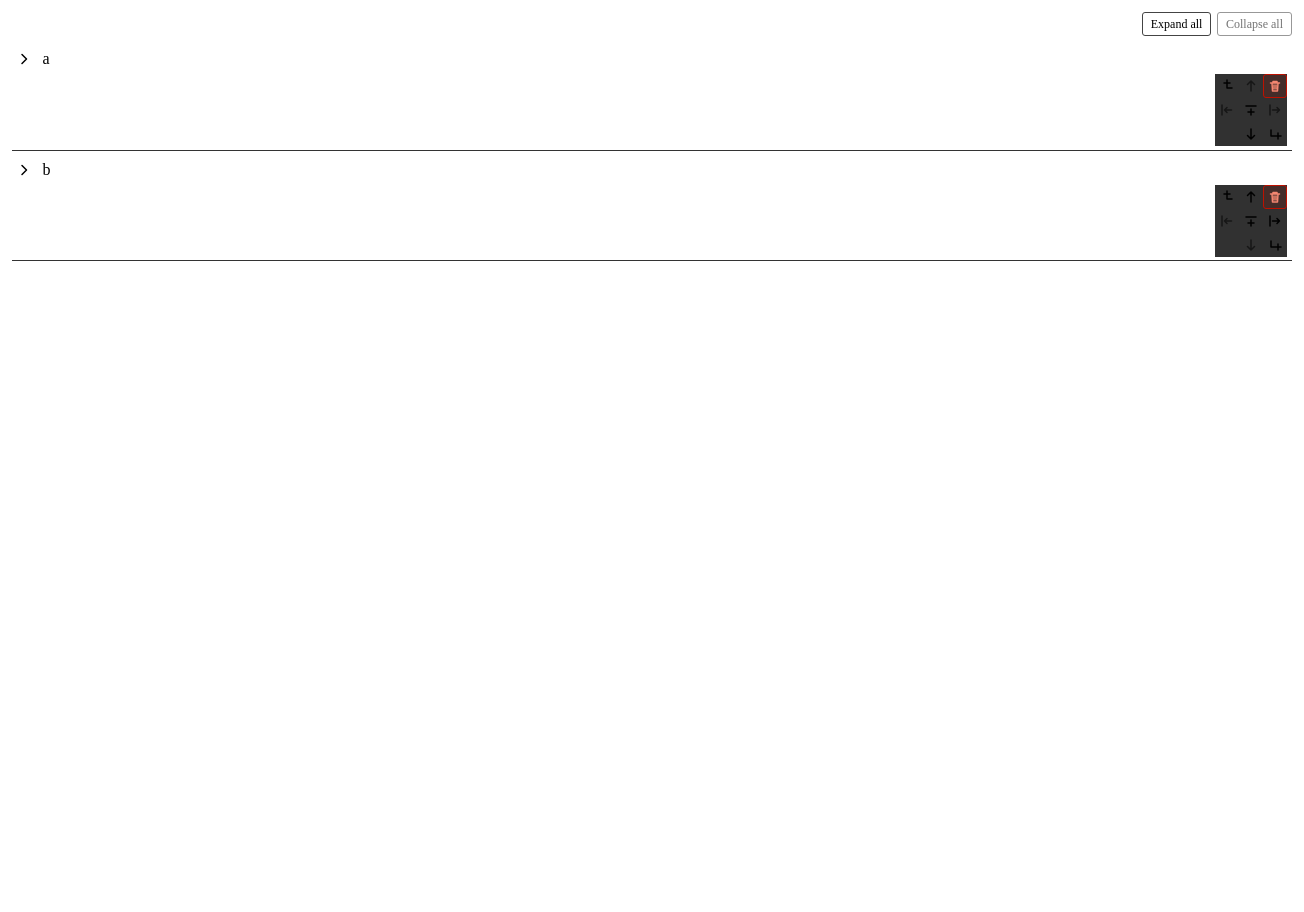
TreeOutlineEditor move modifiers › uses Ctrl only for absolute-depth toggling including hidden branches
Step 1. Click the button "Expand all" → (1177,24), box x1=1142 y1=12 x2=1212 y2=36
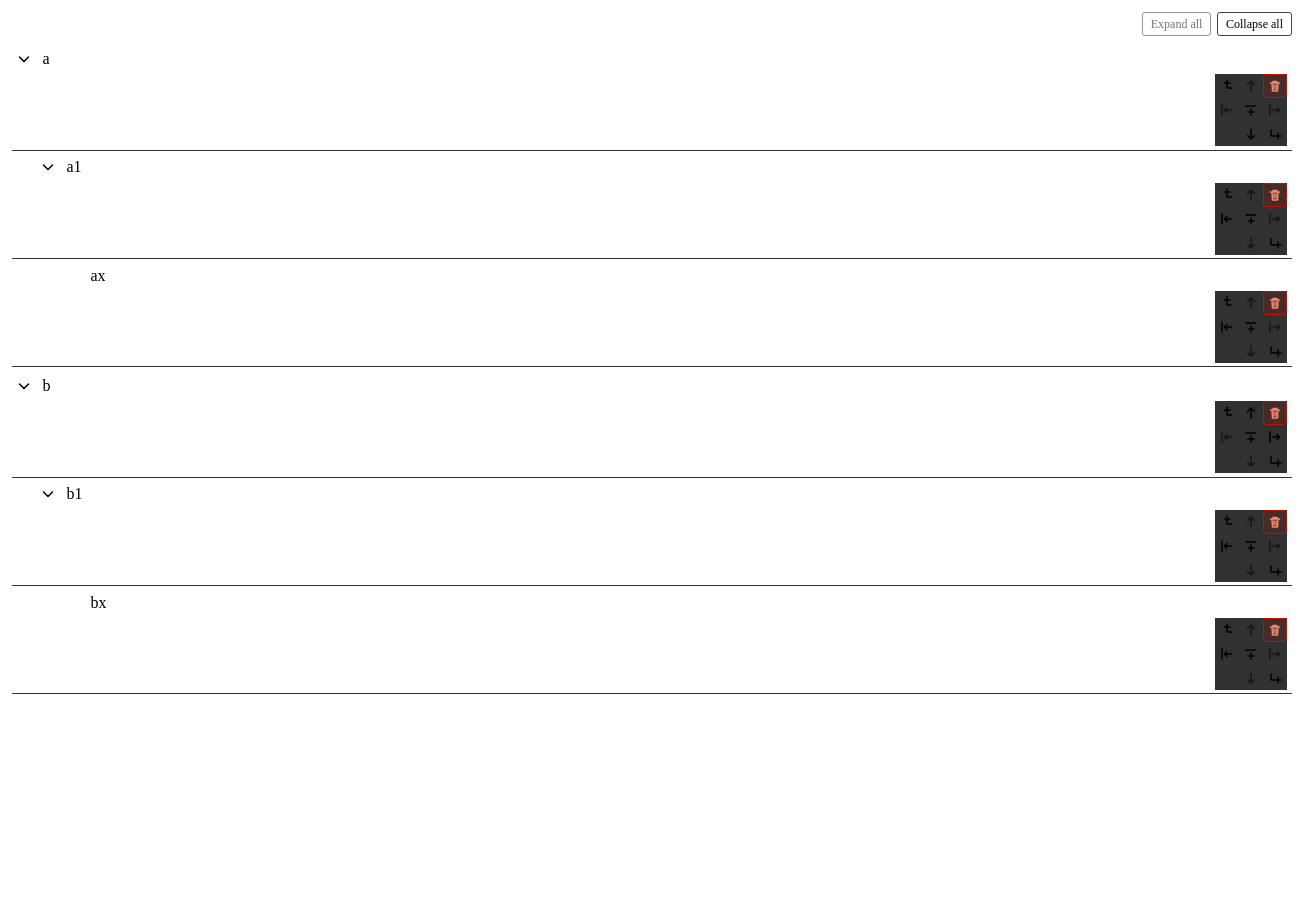
Step 2. Click the button named "Collapse a1" → (48,167), box x1=36 y1=155 x2=60 y2=179
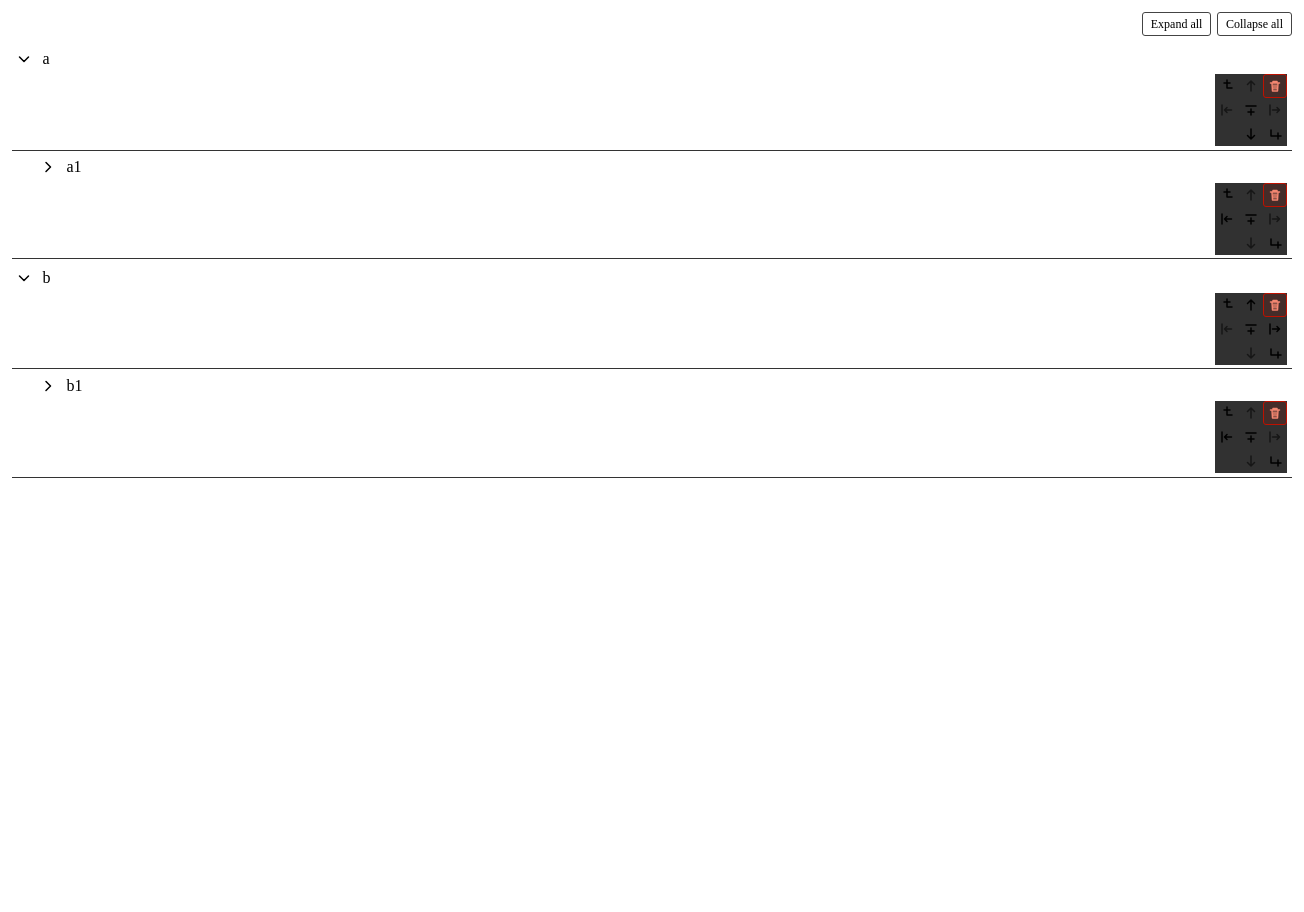
Check: the button named "Expand a1" is shown, box x1=36 y1=155 x2=60 y2=179
Check: the button named "Expand b1" is shown, box x1=36 y1=374 x2=60 y2=398
Step 3. Click the button named "Collapse a" → (24,59), box x1=12 y1=47 x2=36 y2=71
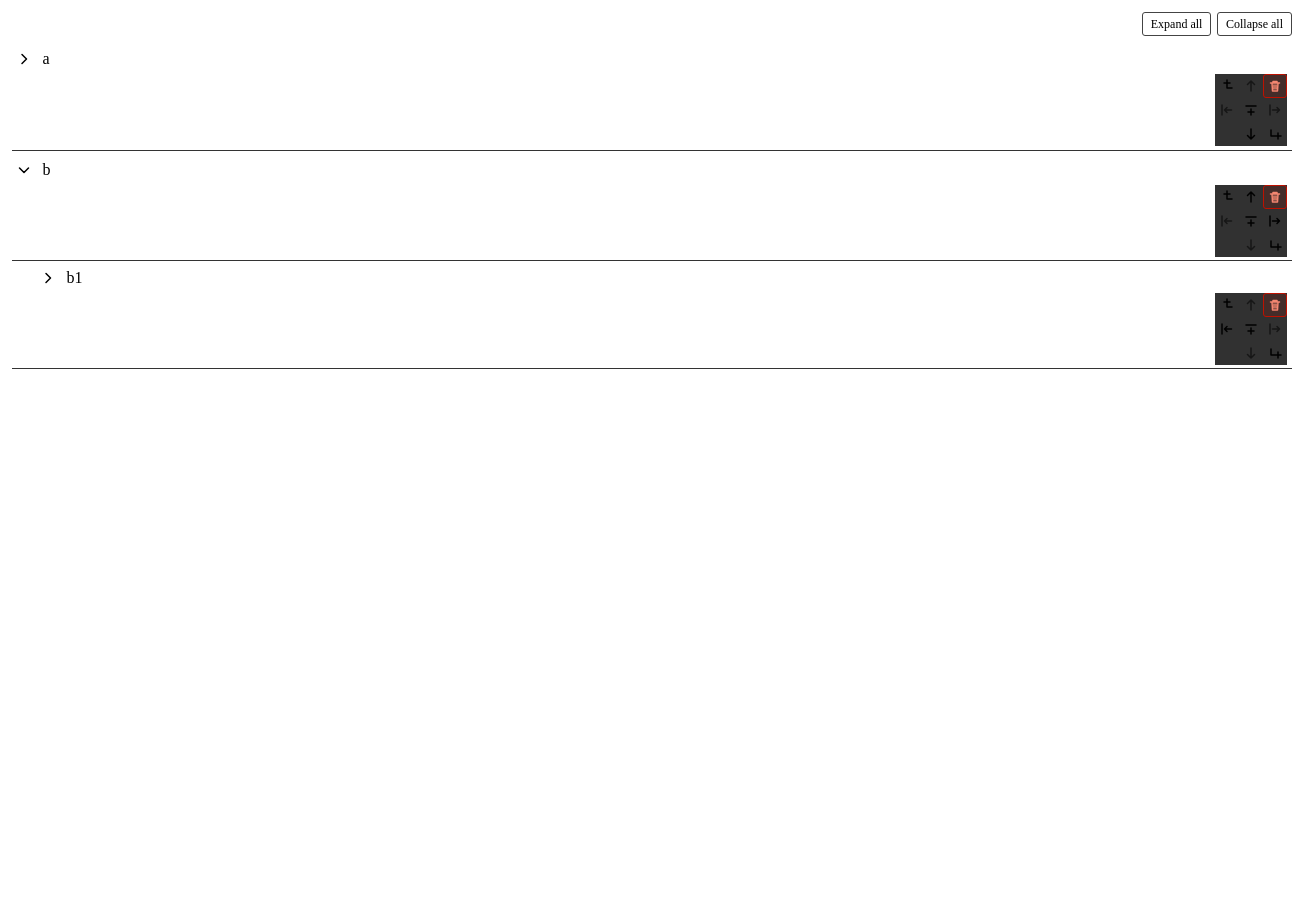
Check: the button named "Collapse b" is shown, box x1=12 y1=158 x2=36 y2=182
Check: the button named "Expand a" is shown, box x1=12 y1=47 x2=36 y2=71
